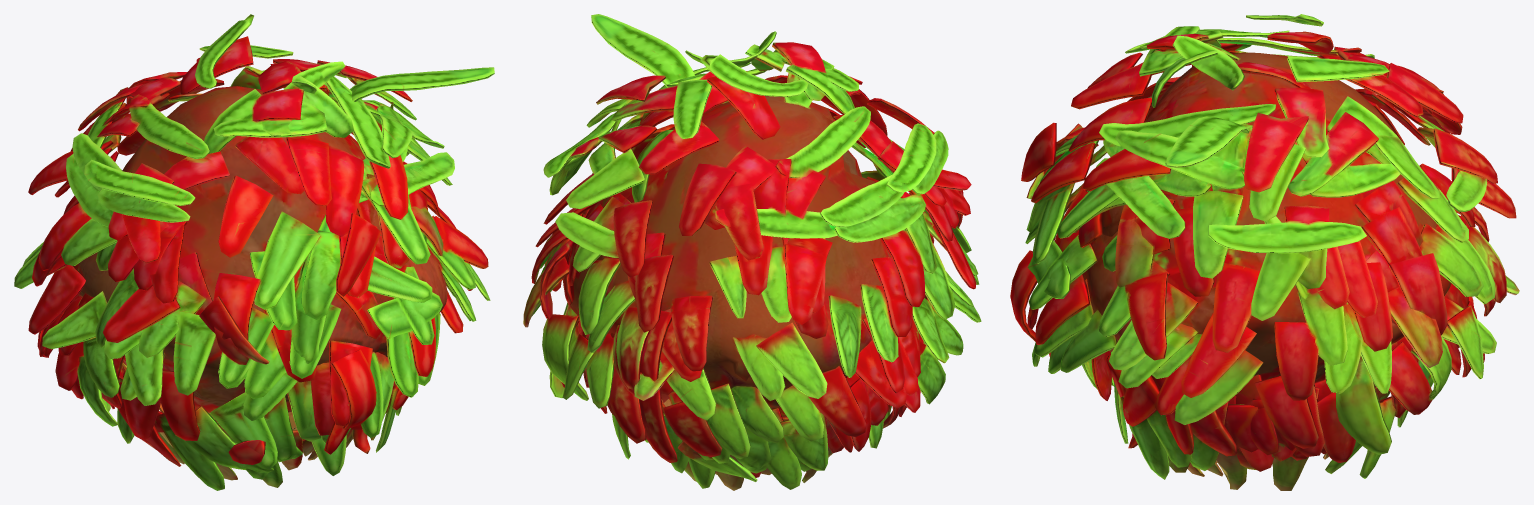
The model's file is prop_herb_bush_v1.glb.
3 views of the same model, side by side, from view 1: azimuth 30°, elevation 25°; view 2: azimuth 150°, elevation 25°; view 3: azimuth 270°, elevation 25° (orthographic). The views are drawn at different scales.
Bounding box in the file's own units: 1.82 × 1.8 × 1.84.
Materials: 1 (1 with a texture image).
